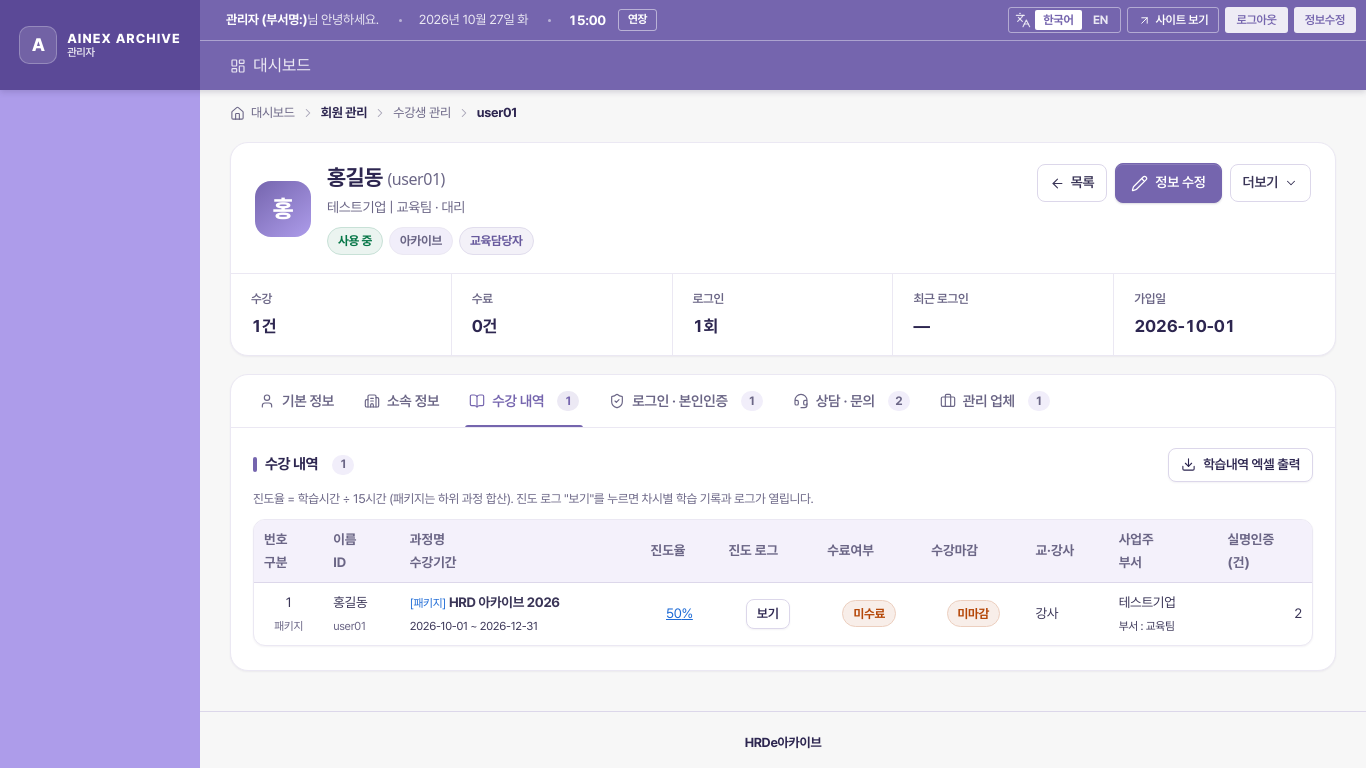
수강생 관리 parity › A2-only staff open 진도율 / 진도 로그 in a drawer through /admin/members/:id/studies/:seq (progress_info_pop.php)
Click the button "보기". click: [768, 614]
box: [746,599,790,629]
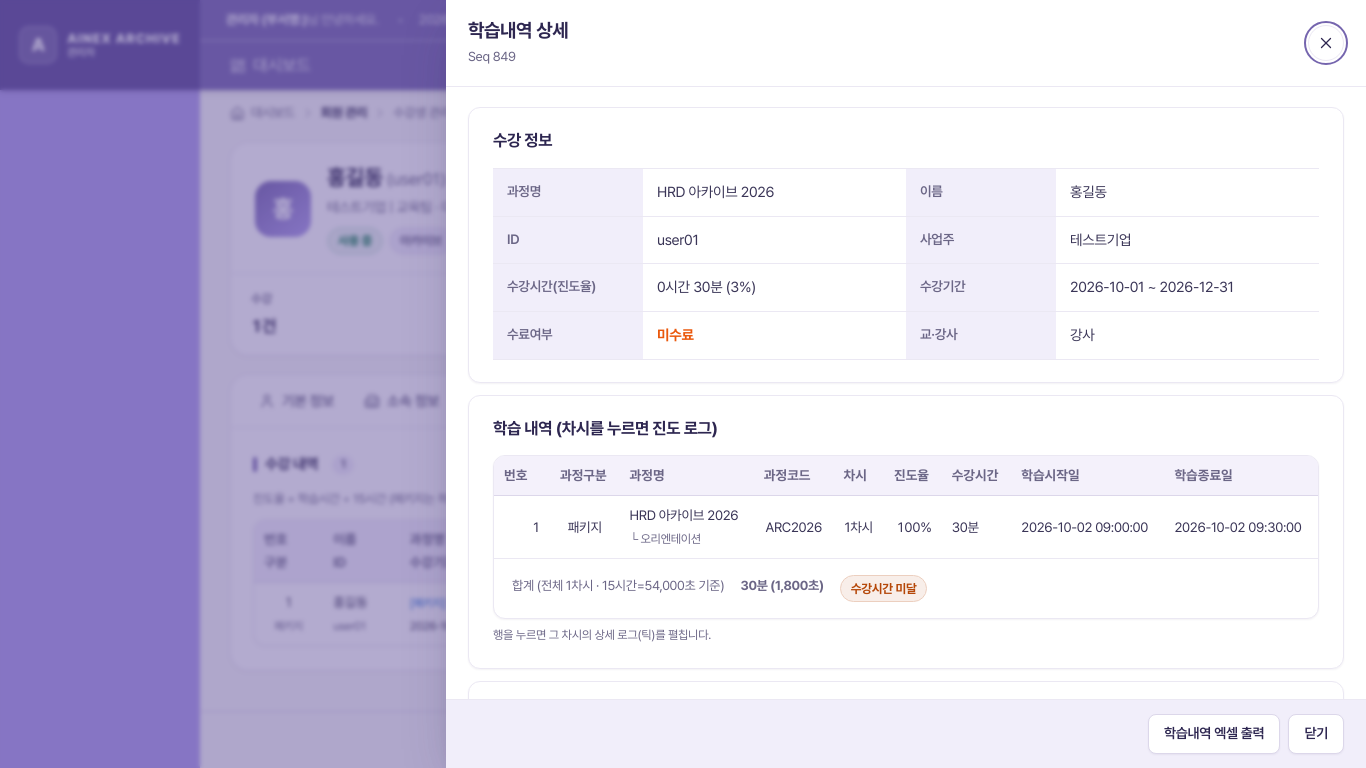
Expected: the text "0시간 30분 (3%)" is shown, [643,264,906,312]
Expected: the text "오리엔테이션" is shown, [640,532,701,546]
Click the text "2026-10-02 09:00:00". click: [1088, 527]
box: [1011,496,1164,558]
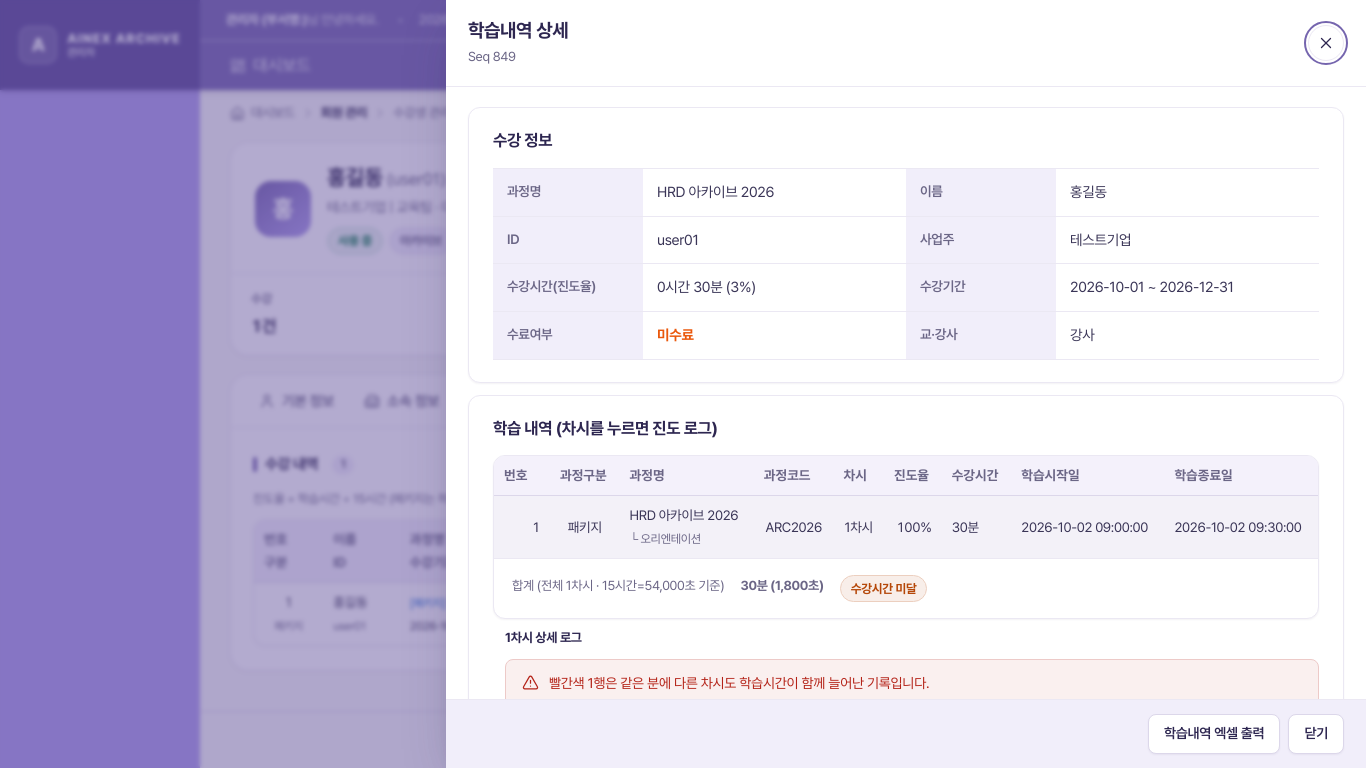
Expected: the text "빨간색 1행은 같은 분에 다른 차시도 학습시간이 함께 늘어난 기록입니다." is shown, [549,672,929,695]
